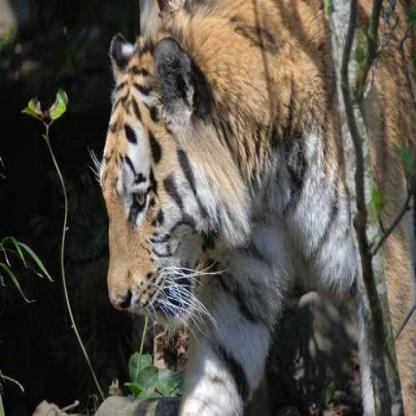Tiger: (98, 0, 415, 415)
